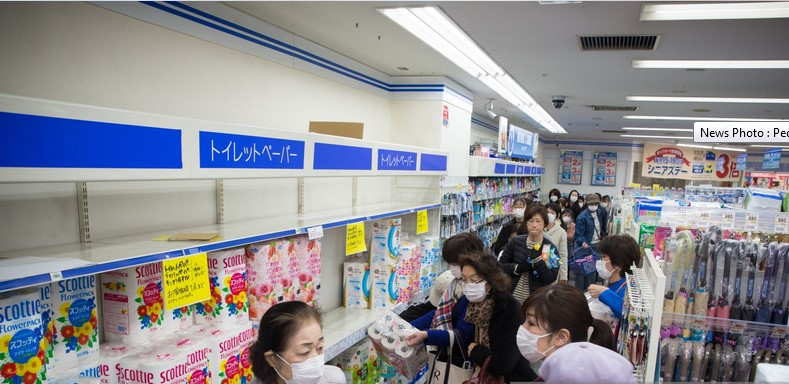face_no_mask: (525, 205, 546, 240)
face_with_mask: (253, 299, 327, 381), (515, 281, 581, 365), (592, 231, 637, 286), (457, 252, 501, 308)
